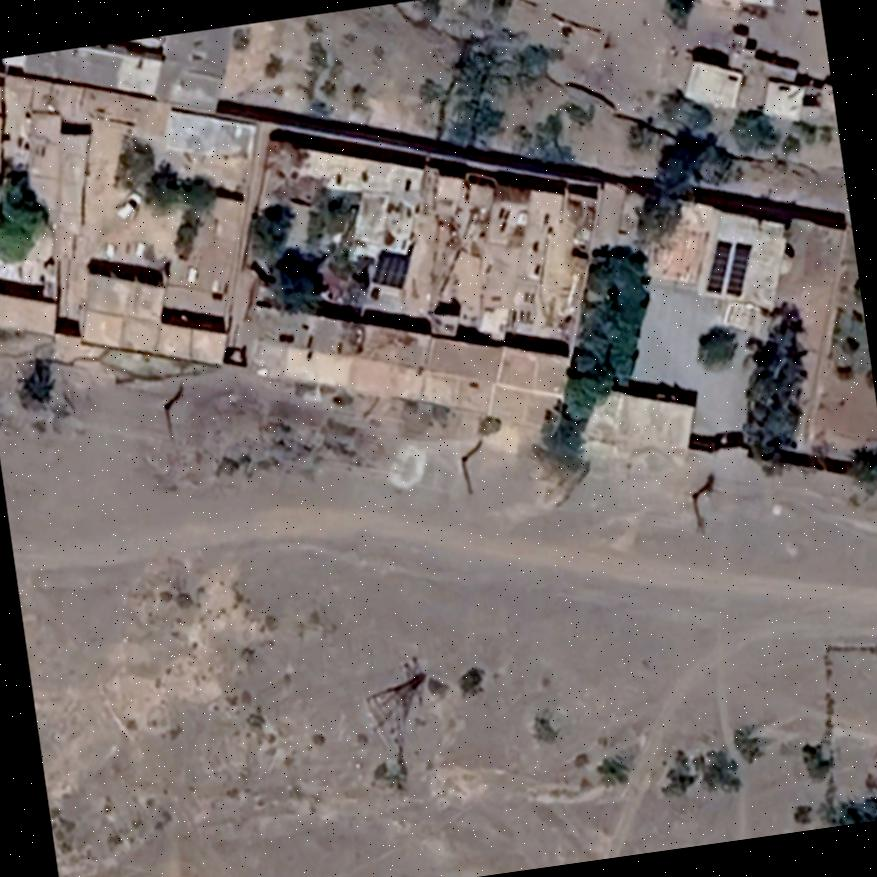Solarpanel: (701, 233, 757, 298), (365, 240, 413, 293)
